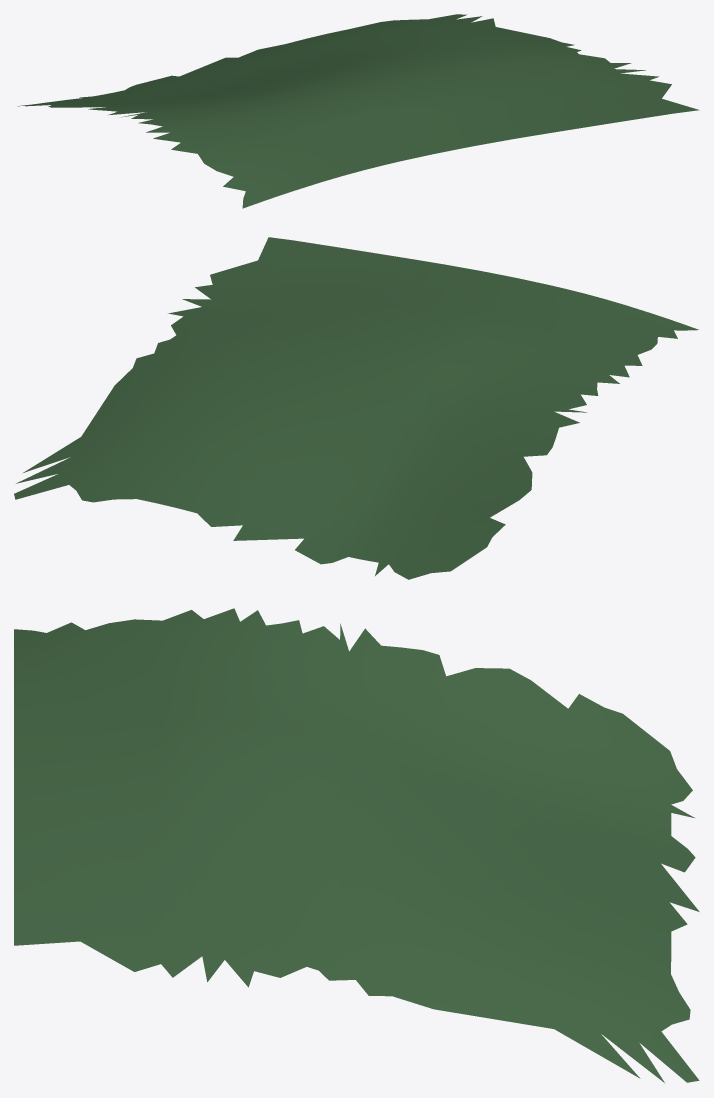
File: payo_land_xm4_y10.glb
3 renders of one model, top to bottom at view 1: azimuth 30°, elevation 25°; view 2: azimuth 150°, elevation 25°; view 3: azimuth 270°, elevation 25°, orthographic. The views are drawn at different scales.
Visible parts, largest first — view 1: payo_land_xm4_y10; view 2: payo_land_xm4_y10; view 3: payo_land_xm4_y10.
Boxes of the visible parts, left/top/right/bottom form: payo_land_xm4_y10: left=17, top=14, right=699, bottom=208; payo_land_xm4_y10: left=14, top=237, right=698, bottom=579; payo_land_xm4_y10: left=14, top=608, right=699, bottom=1082.
Size of the model in its own units: 277 by 64.17 by 249.
